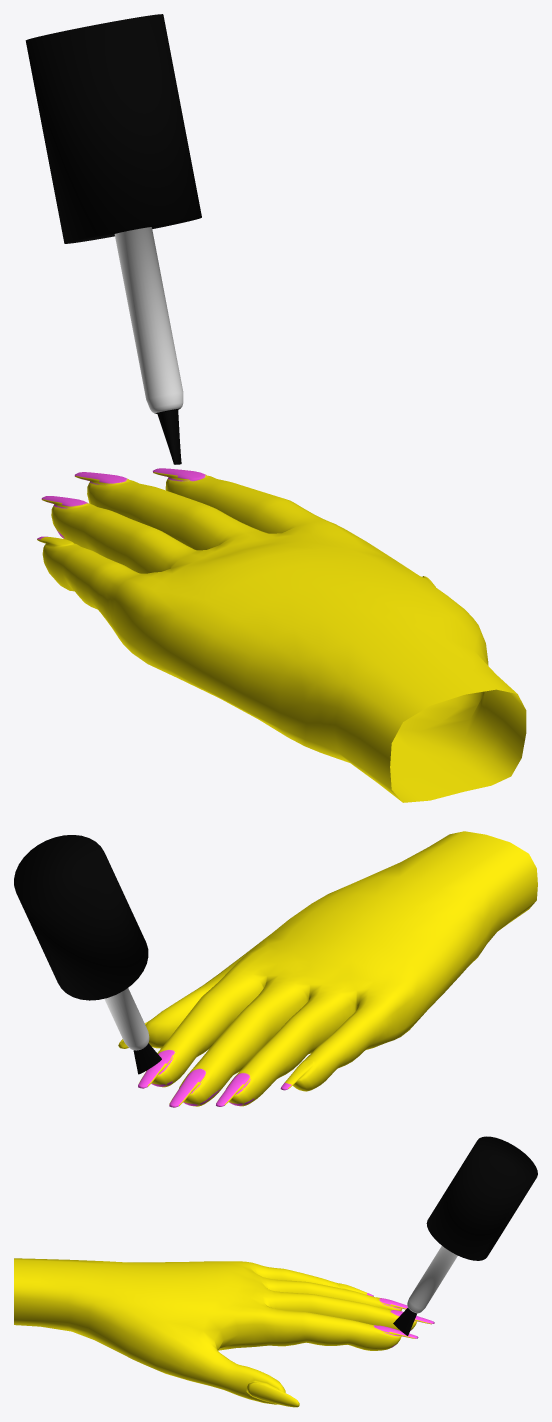
File: nailz.glb
3 views of the same model, one above another, from view 1: azimuth 30°, elevation 25°; view 2: azimuth 150°, elevation 25°; view 3: azimuth 270°, elevation 25° (orthographic). The views are drawn at different scales.
Visible parts, largest first — view 1: Cube, Object_0, Object_1; view 2: Cube, Object_0, Object_1; view 3: Cube, Object_0, Object_1.
Part boxes in pixels (<box>): Cube: <box>37,468,526,802</box>; Object_0: <box>25,14,201,464</box>; Object_1: <box>114,227,183,413</box>; Cube: <box>118,831,537,1107</box>; Object_0: <box>14,835,161,1074</box>; Object_1: <box>104,988,149,1050</box>; Cube: <box>14,1258,434,1407</box>; Object_0: <box>393,1136,537,1335</box>; Object_1: <box>407,1246,457,1313</box>.
Bounding box in the file's own units: 1.77 × 2.26 × 4.5.
3 materials, 1 textured.
